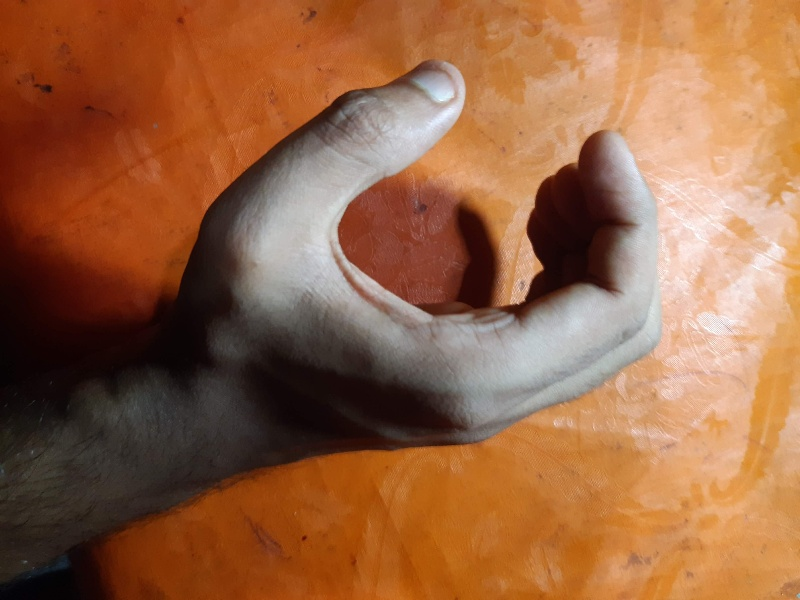one: (182, 46, 697, 471)
